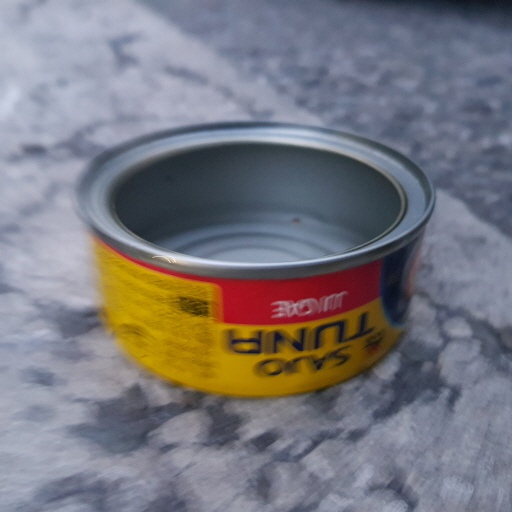Metal_1: (77, 118, 437, 390)
